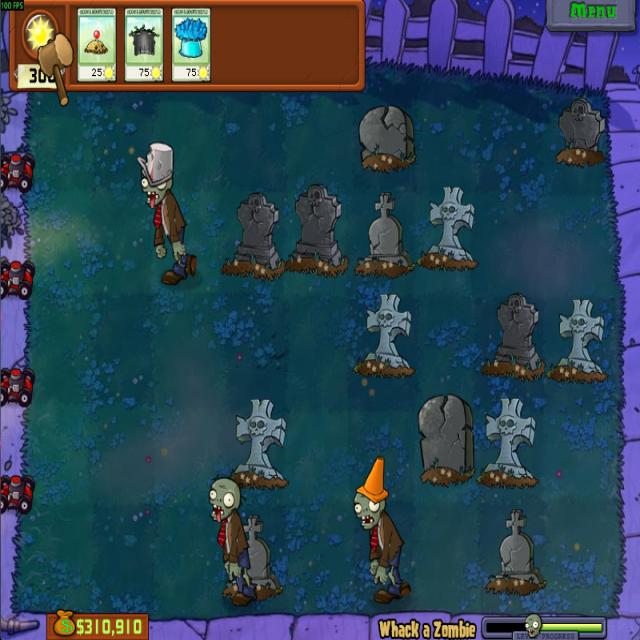conehead: (353, 456, 388, 531)
damaged_buckethead: (135, 140, 175, 208)
grave: (284, 182, 345, 276), (481, 290, 543, 379), (228, 399, 289, 489), (478, 396, 538, 486), (224, 190, 284, 278), (418, 186, 478, 272), (548, 297, 608, 382), (354, 192, 414, 276), (416, 395, 472, 484), (487, 509, 545, 593), (356, 293, 412, 378), (357, 102, 415, 172), (555, 96, 605, 166), (239, 516, 281, 595)
gravebuster: (124, 9, 163, 82)
zombie: (205, 476, 241, 523)
